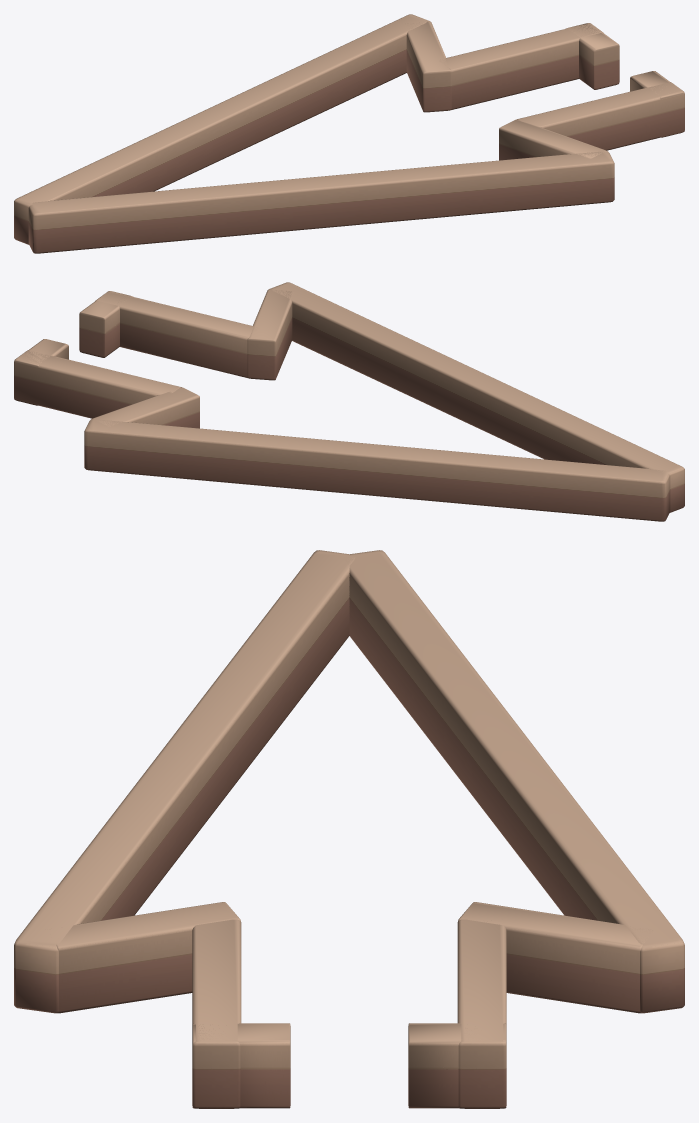
Rendered from Props.fbx.
The picture shows the model from 3 angles, top to bottom: view 1: azimuth 30°, elevation 25°; view 2: azimuth 150°, elevation 25°; view 3: azimuth 270°, elevation 25°; orthographic projection. The views are drawn at different scales.
Parts seen in each view (by area): view 1: Box20-3_1 (3), Box20-3_1 (4), Box20-3_1 (8), Box20-3_1 (7), Box20-3_1 (6), Box20-3_1 (5), Box20-3_1 (10), Box20-3_1 (9); view 2: Box20-3_1 (4), Box20-3_1 (3), Box20-3_1 (7), Box20-3_1 (8), Box20-3_1 (5), Box20-3_1 (6), Box20-3_1 (9), Box20-3_1 (10); view 3: Box20-3_1 (3), Box20-3_1 (4), Box20-3_1 (6), Box20-3_1 (5), Box20-3_1 (8), Box20-3_1 (7), Box20-3_1 (10), Box20-3_1 (9).
Part boxes in pixels (<box>): Box20-3_1 (3): <box>28,151,614,253</box>; Box20-3_1 (4): <box>14,14,429,244</box>; Box20-3_1 (8): <box>439,23,603,109</box>; Box20-3_1 (7): <box>518,82,684,150</box>; Box20-3_1 (6): <box>405,21,451,112</box>; Box20-3_1 (5): <box>499,119,607,160</box>; Box20-3_1 (10): <box>565,23,619,89</box>; Box20-3_1 (9): <box>630,71,684,137</box>; Box20-3_1 (4): <box>84,419,670,521</box>; Box20-3_1 (3): <box>269,282,684,512</box>; Box20-3_1 (7): <box>95,291,257,377</box>; Box20-3_1 (8): <box>14,350,180,418</box>; Box20-3_1 (5): <box>247,289,293,380</box>; Box20-3_1 (6): <box>91,387,199,428</box>; Box20-3_1 (9): <box>79,291,133,357</box>; Box20-3_1 (10): <box>14,339,68,405</box>; Box20-3_1 (3): <box>14,550,355,1013</box>; Box20-3_1 (4): <box>344,550,684,1013</box>; Box20-3_1 (6): <box>458,902,652,1013</box>; Box20-3_1 (5): <box>56,902,240,1013</box>; Box20-3_1 (8): <box>457,919,506,1108</box>; Box20-3_1 (7): <box>192,919,241,1108</box>; Box20-3_1 (10): <box>408,1023,506,1108</box>; Box20-3_1 (9): <box>192,1023,290,1108</box>.
Size of the model in its own units: 23.85 by 1.5 by 13.67.
Materials: 1 (1 with a texture image).
